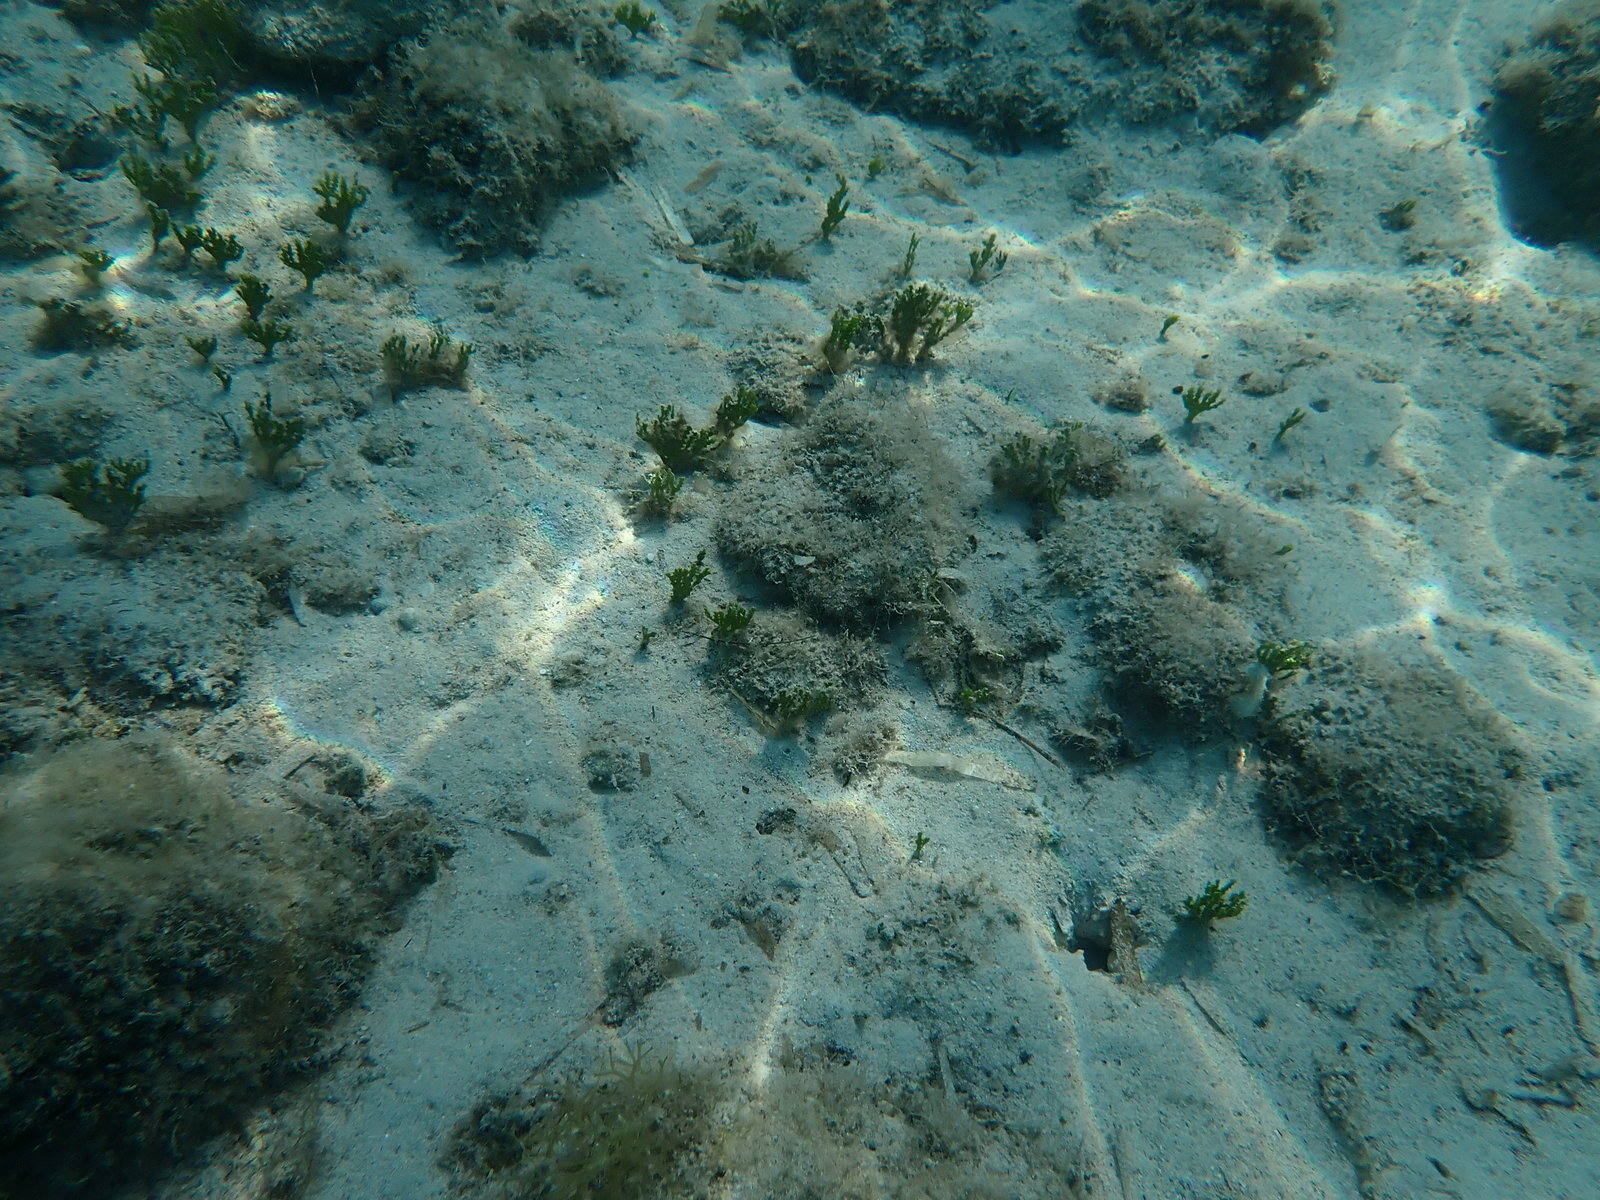halimeda: (889, 284, 975, 355), (59, 460, 147, 527), (632, 408, 729, 468), (244, 393, 306, 466), (311, 169, 369, 238), (1182, 876, 1251, 926), (280, 239, 330, 289), (380, 332, 420, 392), (666, 550, 712, 599), (819, 176, 853, 242), (1256, 639, 1317, 676), (1182, 381, 1230, 425), (236, 274, 273, 328), (1036, 445, 1065, 514), (166, 78, 203, 132), (643, 466, 687, 511), (826, 309, 860, 366), (719, 383, 758, 432), (117, 103, 165, 142), (703, 601, 760, 634), (123, 147, 157, 199), (202, 227, 242, 268), (617, 3, 659, 40), (251, 321, 292, 353), (1002, 429, 1033, 470), (147, 200, 171, 255), (183, 142, 217, 178), (171, 224, 202, 263), (79, 251, 118, 277), (135, 76, 166, 108), (1279, 402, 1304, 439), (185, 334, 220, 358), (960, 684, 995, 708), (731, 219, 760, 245), (906, 232, 918, 281), (160, 161, 178, 194), (1162, 314, 1180, 342), (460, 337, 472, 377), (215, 366, 234, 389), (431, 332, 443, 367), (640, 623, 656, 649), (915, 829, 929, 858), (983, 229, 991, 272), (969, 251, 981, 280), (869, 154, 883, 178), (858, 303, 866, 345), (995, 247, 1007, 268), (1058, 425, 1070, 445), (1395, 199, 1417, 209), (1070, 420, 1080, 429)
